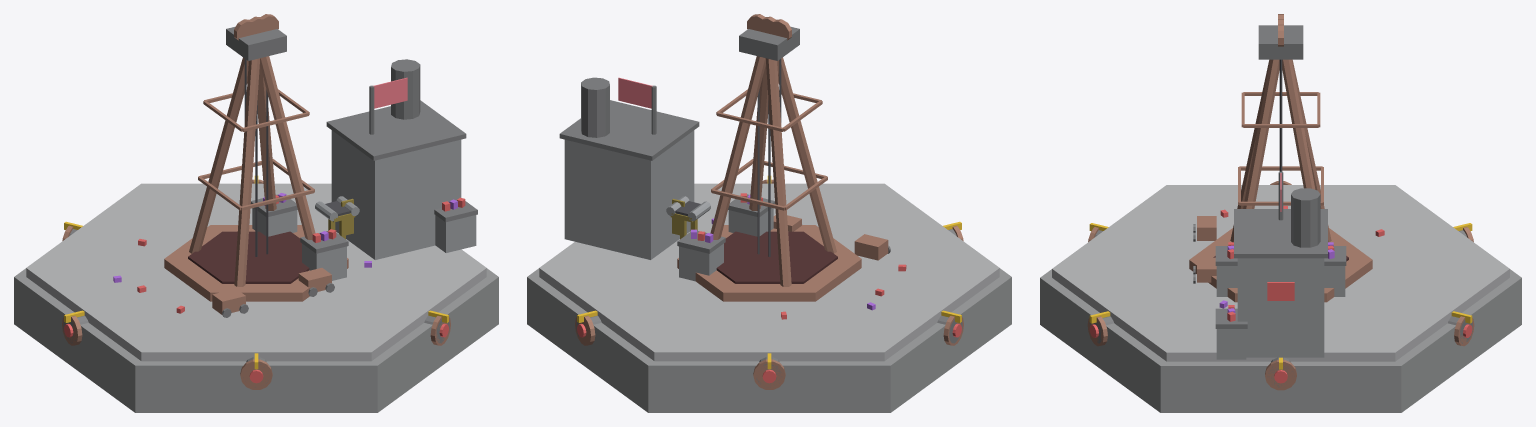
The model's file is resonance_harvester_s3_100.glb.
The picture shows the model from 3 angles, left to right: view 1: azimuth 30°, elevation 25°; view 2: azimuth 150°, elevation 25°; view 3: azimuth 270°, elevation 25°; orthographic projection.
Parts seen in each view (by area): view 1: RH_Base; view 2: RH_Base; view 3: RH_Base.
Boxes of the visible parts, x1,y1,x2,y2 form: RH_Base: [14, 14, 498, 412]; RH_Base: [527, 14, 1011, 412]; RH_Base: [1040, 14, 1521, 412].
Size of the model in its own units: 3.56 by 2.72 by 3.9.
